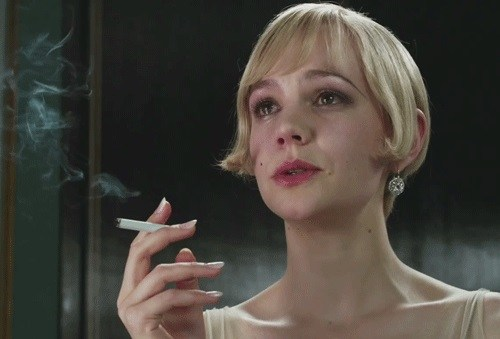cigarette: (108, 204, 194, 245)
